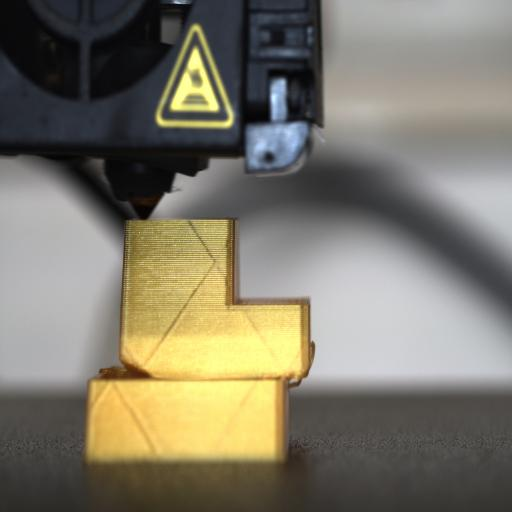layer_shift: (84, 357, 312, 388)
